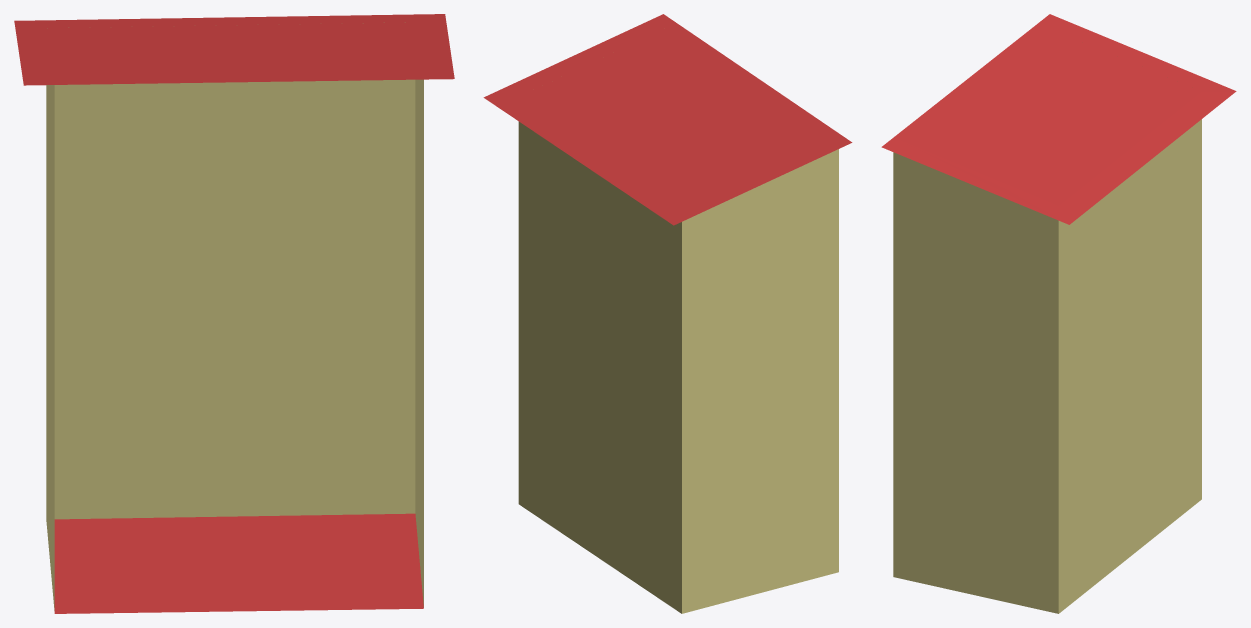
3 renders of one model, left to right at view 1: azimuth 30°, elevation 25°; view 2: azimuth 150°, elevation 25°; view 3: azimuth 270°, elevation 25°, orthographic. The views are drawn at different scales.
Bounding box in the file's own units: 8.09 × 6.92 × 9.44.
